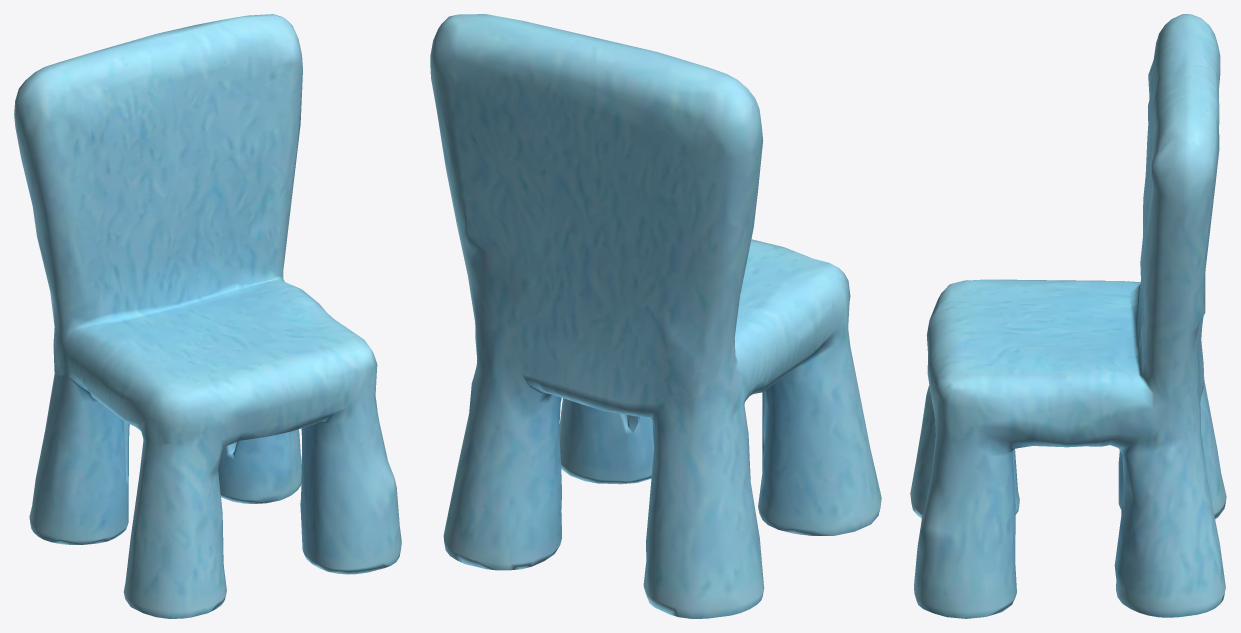
File: 16 - GREJSIMOJS - 兒童椅椅套, 合成毛皮藍色 IKEA 線上購物.glb
3 views of the same model, side by side, from view 1: azimuth 30°, elevation 25°; view 2: azimuth 150°, elevation 25°; view 3: azimuth 270°, elevation 25° (orthographic). The views are drawn at different scales.
Visible parts, largest first — view 1: 70602007-GREJSIMOJS001.001; view 2: 70602007-GREJSIMOJS001.001; view 3: 70602007-GREJSIMOJS001.001.
Boxes of the visible parts, left/top/right/bottom form: 70602007-GREJSIMOJS001.001: left=14, top=14, right=401, bottom=618; 70602007-GREJSIMOJS001.001: left=430, top=14, right=881, bottom=618; 70602007-GREJSIMOJS001.001: left=910, top=14, right=1226, bottom=618.
Bounding box in the file's own units: 0.4428 × 0.6988 × 0.4127.
1 material, 1 textured.
